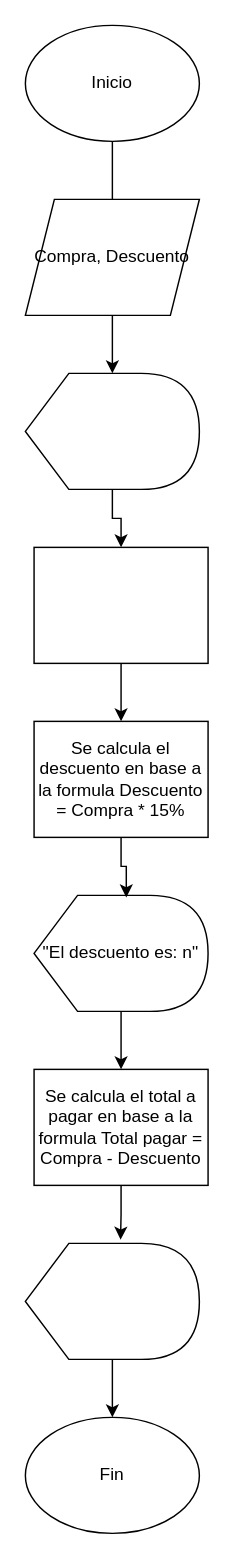
This 233x1559 diagram has some shape labels left out. Here are the shapes that lost their labels. From the top down, the centre of each, then its label:
(111,430): "Ingrese el valor de la compra
(120,604): Digitar el valor de compra correspondiente
(111,1300): "El total a pagar es: n"
